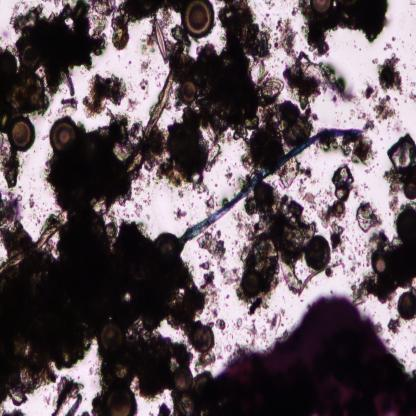Background material: (0, 204, 201, 408), (168, 1, 283, 133), (10, 1, 107, 86), (249, 195, 310, 298), (48, 113, 122, 195), (102, 322, 175, 396), (298, 2, 387, 53), (0, 46, 49, 130), (355, 233, 416, 300), (284, 51, 354, 109), (319, 165, 354, 226), (150, 128, 183, 191), (0, 191, 32, 252), (86, 72, 126, 115), (361, 83, 399, 121), (248, 132, 287, 169), (280, 102, 314, 144), (119, 1, 185, 22), (377, 52, 407, 95), (387, 131, 416, 174), (276, 10, 298, 60), (0, 142, 22, 188), (343, 135, 375, 166), (197, 233, 228, 264), (284, 162, 317, 188), (205, 298, 228, 332), (111, 12, 131, 50), (233, 211, 254, 241), (357, 203, 379, 231), (386, 177, 402, 214), (329, 220, 346, 254), (219, 264, 242, 289), (246, 320, 268, 343), (268, 307, 286, 333), (300, 187, 318, 212), (198, 267, 218, 289), (260, 12, 275, 34), (247, 298, 264, 317), (126, 94, 140, 114), (141, 60, 149, 92), (389, 316, 402, 335), (173, 206, 188, 222), (29, 191, 39, 213), (360, 119, 376, 132), (204, 194, 216, 210), (134, 200, 144, 219), (383, 40, 397, 51), (224, 171, 234, 182), (364, 166, 374, 176), (235, 317, 243, 329), (409, 89, 416, 101), (372, 57, 379, 66), (411, 345, 416, 356), (213, 183, 218, 188)
Cellulose filter fibre: (0, 43, 185, 274)
Cotton: (180, 130, 362, 246)
Diatom: (183, 1, 216, 38), (49, 117, 78, 153), (102, 387, 139, 415), (305, 234, 332, 271), (394, 204, 416, 245), (100, 320, 124, 356), (10, 117, 35, 151), (152, 230, 178, 258), (193, 323, 215, 356), (152, 21, 168, 64), (396, 290, 416, 322), (172, 364, 193, 394), (242, 269, 262, 299), (53, 394, 82, 414), (19, 44, 41, 69), (255, 184, 275, 211), (179, 79, 198, 105), (59, 70, 75, 98), (309, 0, 335, 14), (402, 179, 416, 199), (61, 97, 76, 109)
Pen: (200, 296, 416, 414)
